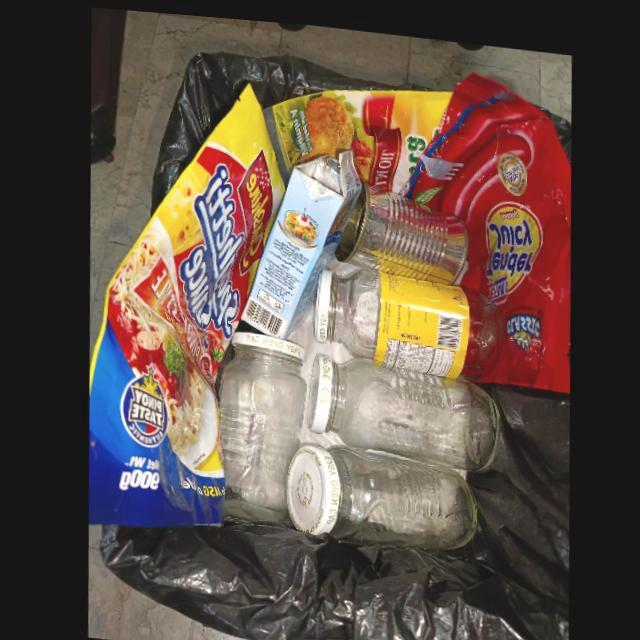aluminum: (333, 183, 467, 277)
food_wrapper: (85, 77, 284, 528), (406, 62, 570, 382), (270, 81, 453, 190)
glass_bottle: (303, 348, 496, 461), (311, 261, 501, 371), (283, 439, 475, 547), (213, 326, 305, 517)
